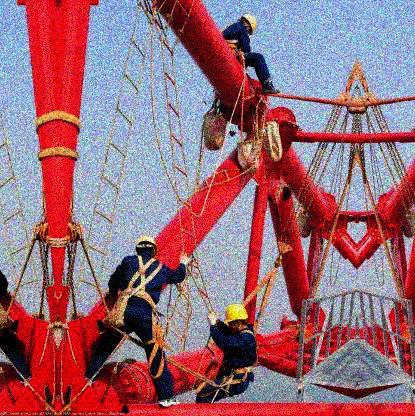helmet: (224, 304, 248, 333), (135, 235, 159, 261), (238, 14, 257, 36)
